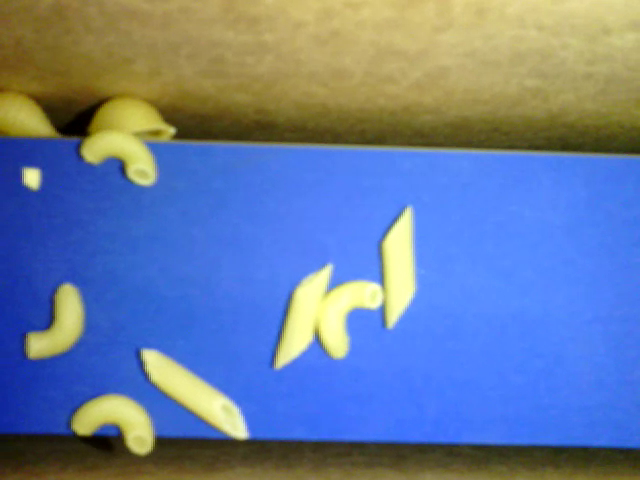elbow: (318, 273, 383, 359), (71, 388, 155, 453), (80, 127, 156, 189), (24, 283, 87, 356)
penne: (141, 343, 247, 438), (269, 258, 334, 377), (384, 204, 416, 331)
shell: (85, 92, 180, 145), (1, 87, 67, 138)
